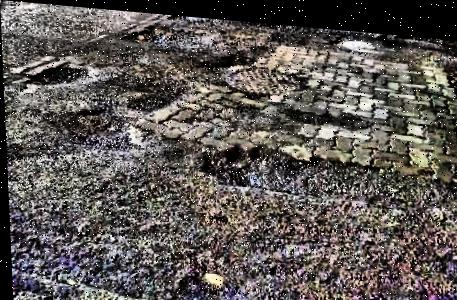pothole: (198, 133, 394, 198), (60, 102, 150, 151), (23, 59, 89, 88), (119, 15, 179, 45), (331, 26, 379, 48), (128, 88, 170, 111)
